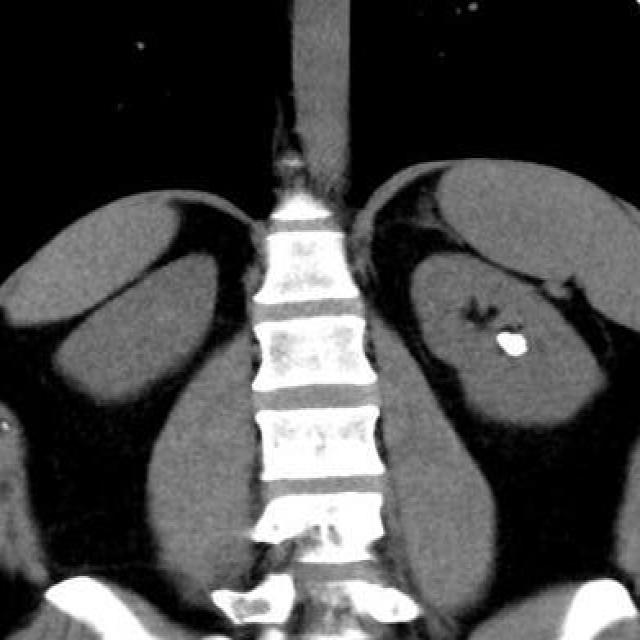Tas_Var: (494, 329, 530, 359)
